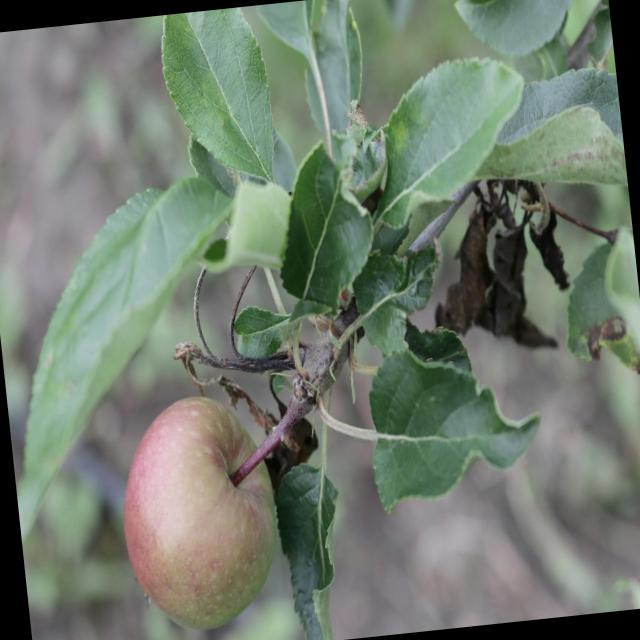-FireBlight-: (424, 165, 585, 345)
